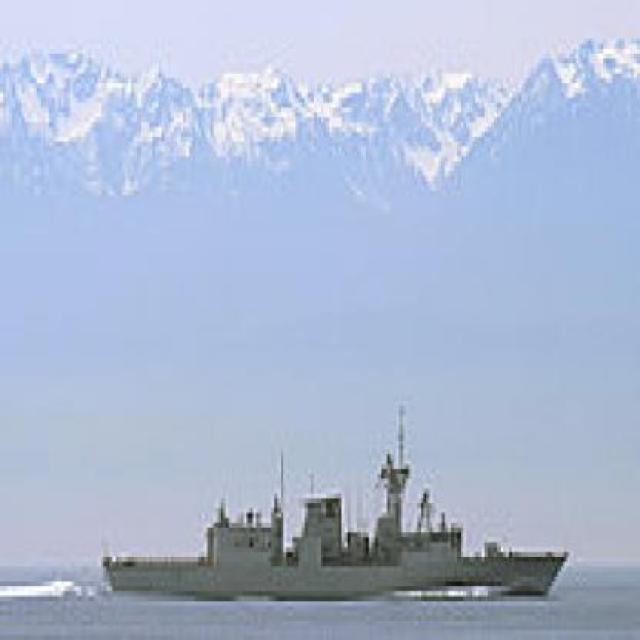warship2: (93, 406, 571, 602)
